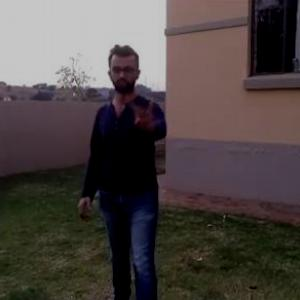takeoff-hand: (124, 88, 160, 134)
